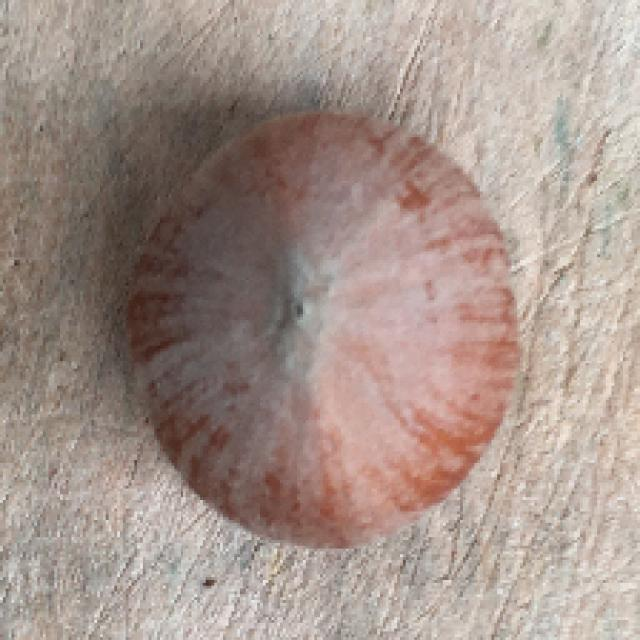qualityHazelnut: (124, 103, 529, 557)
